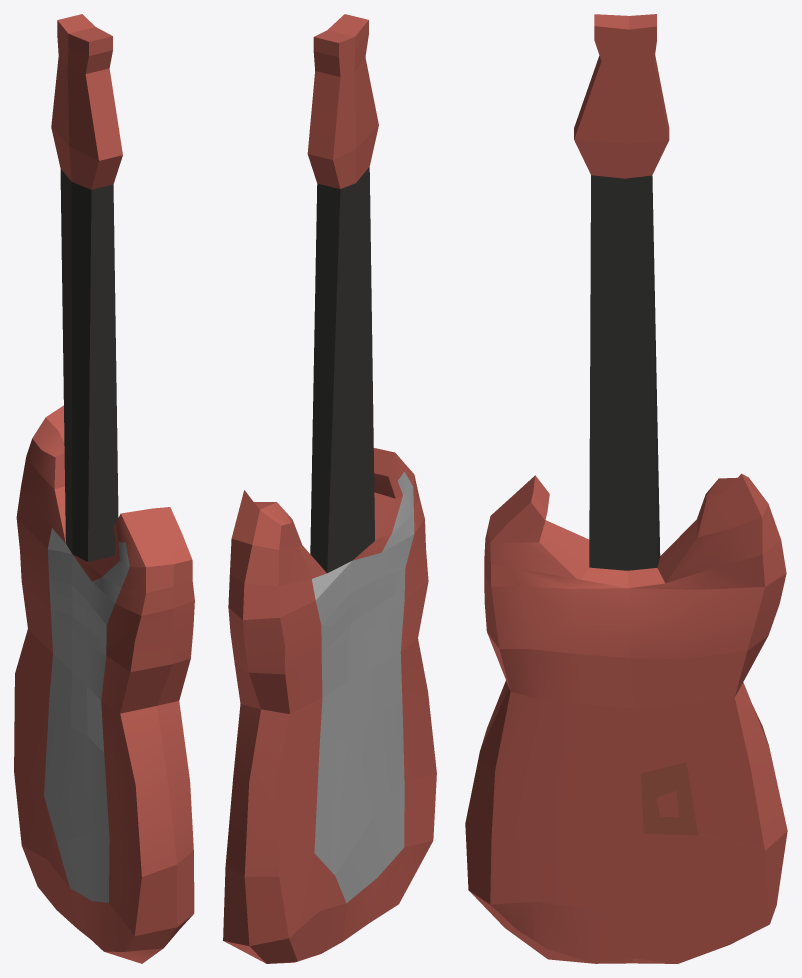
The model's file is ElectricGuitar.fbx.
3 views of the same model, side by side, from view 1: azimuth 30°, elevation 25°; view 2: azimuth 150°, elevation 25°; view 3: azimuth 270°, elevation 25° (orthographic).
Parts seen in each view (by area): view 1: Electric_guitar; view 2: Electric_guitar; view 3: Electric_guitar.
Part boxes in pixels (x1,y1,x2,y2): Electric_guitar: (14, 14, 194, 963); Electric_guitar: (223, 14, 436, 963); Electric_guitar: (465, 14, 787, 963).
Size of the model in its own units: 5.83 by 74.89 by 23.43.
